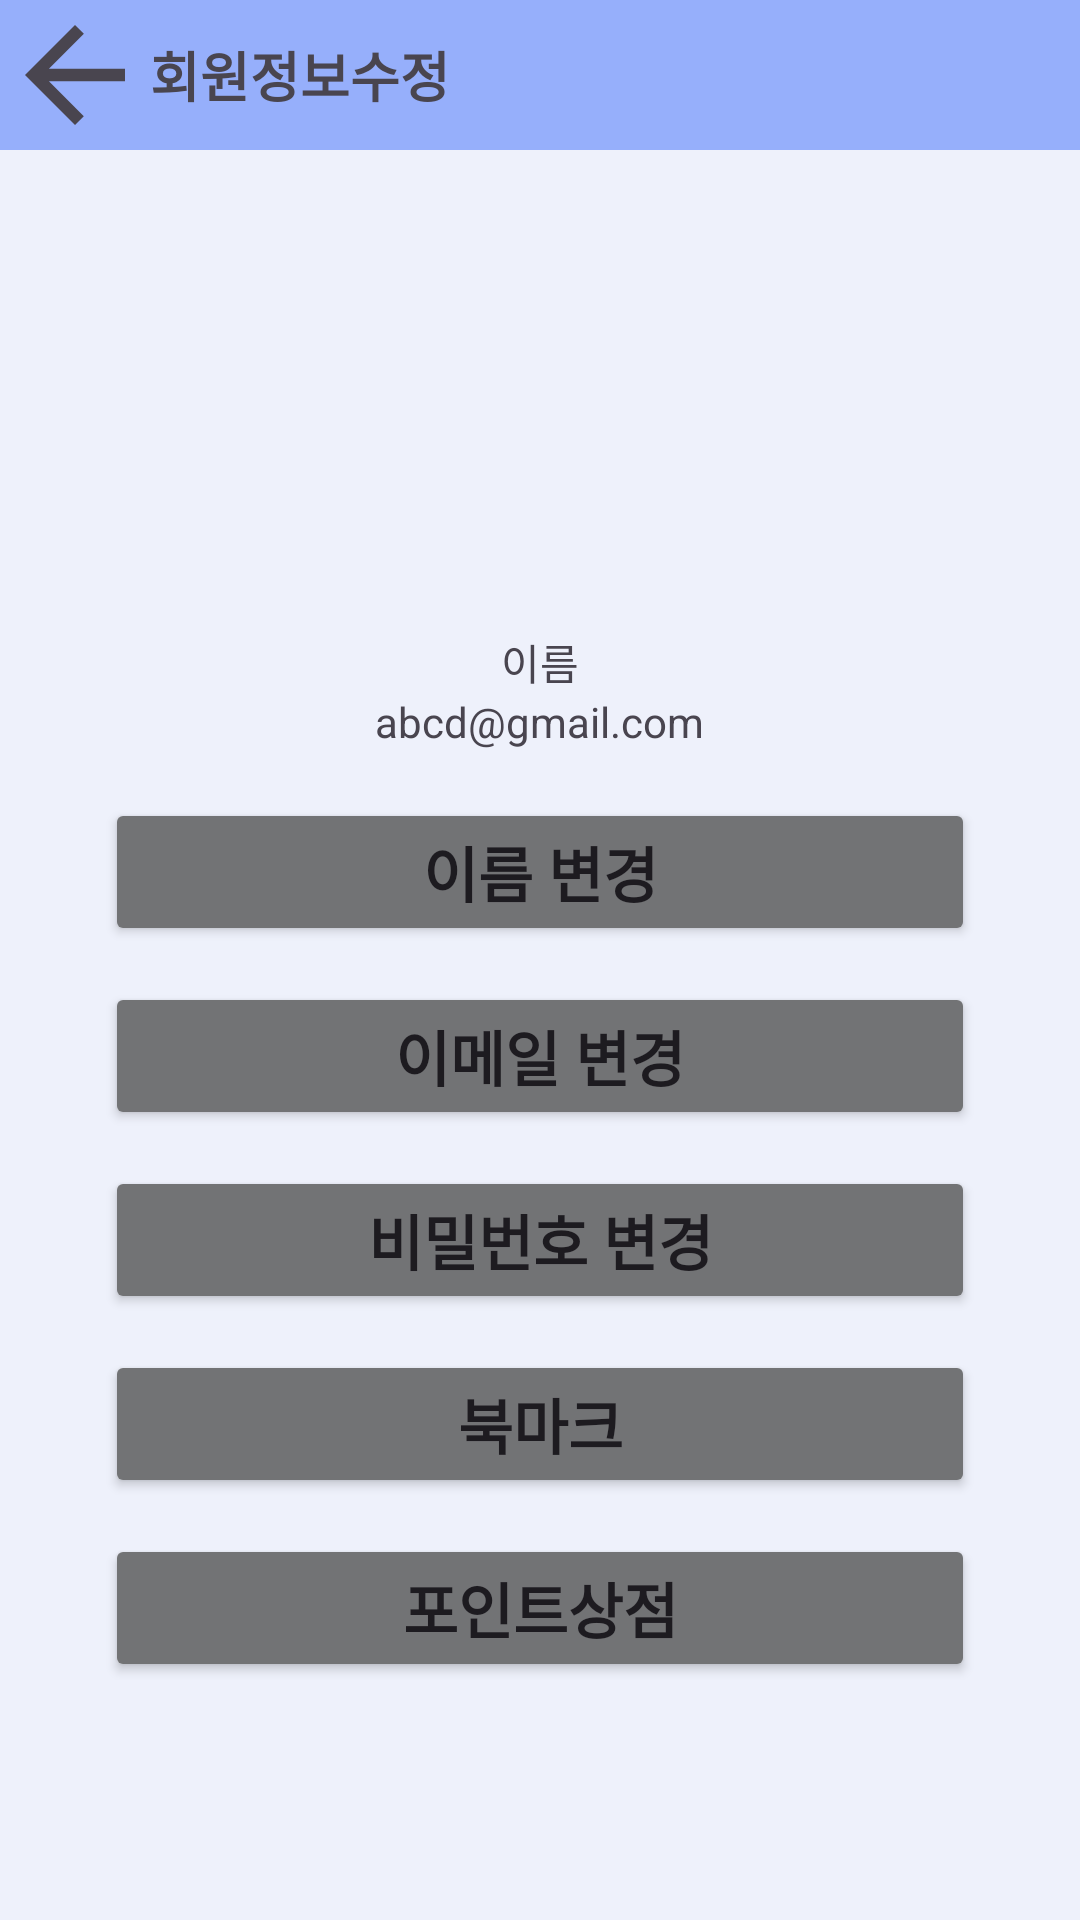

Screen size 1080×1920. Icon name, then its box in pixels as bbox=[x1, y1, x2, y2]:
left arrow: bbox=[25, 25, 125, 125]
